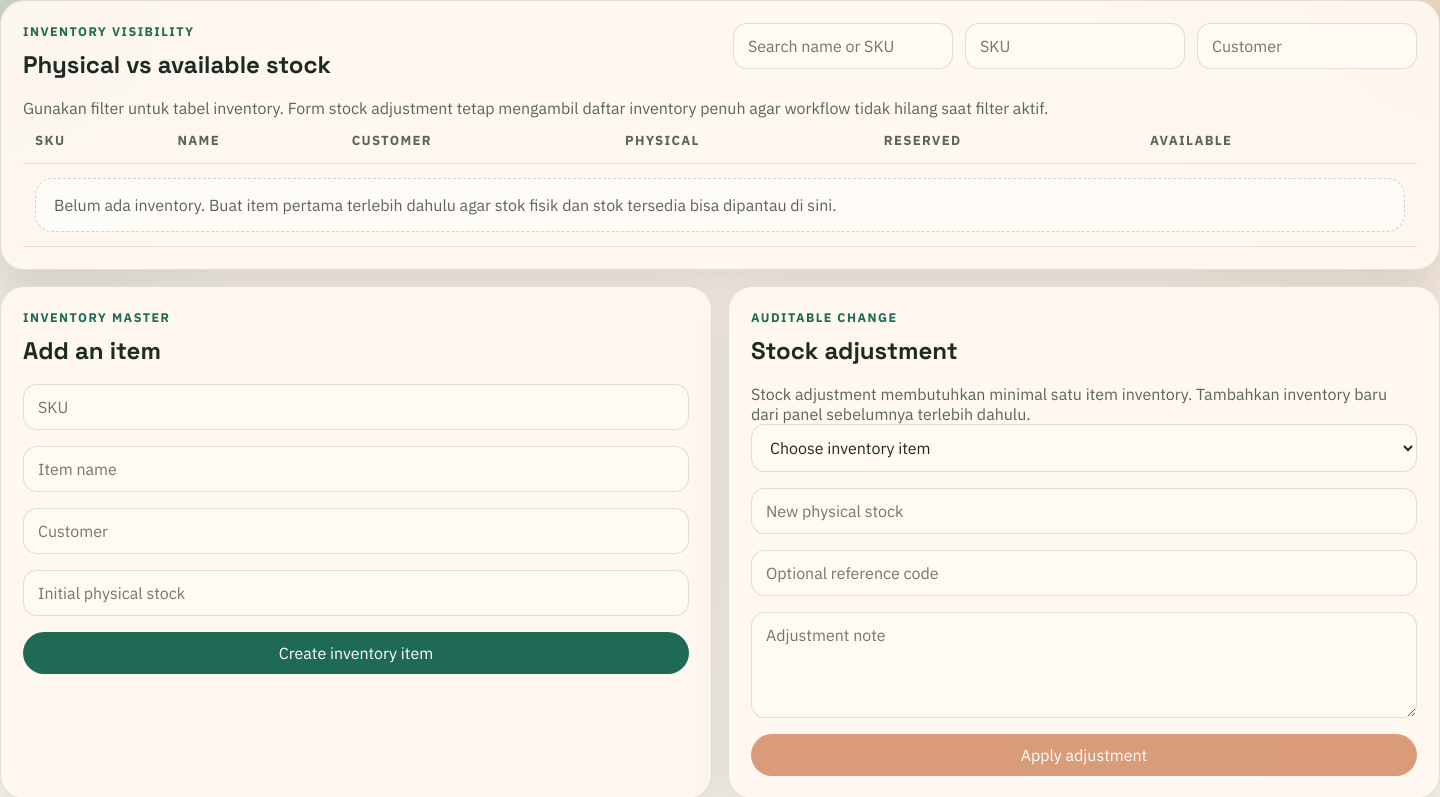
Scenario: InventoryPage › submits create inventory without reading reset from a null event target
Expected: the form "Create inventory item" is shown, [23, 384, 689, 674]
In the field with placeholder "SKU" below "Add an item": (356, 407) [23, 384, 689, 430], type "SKU-001"
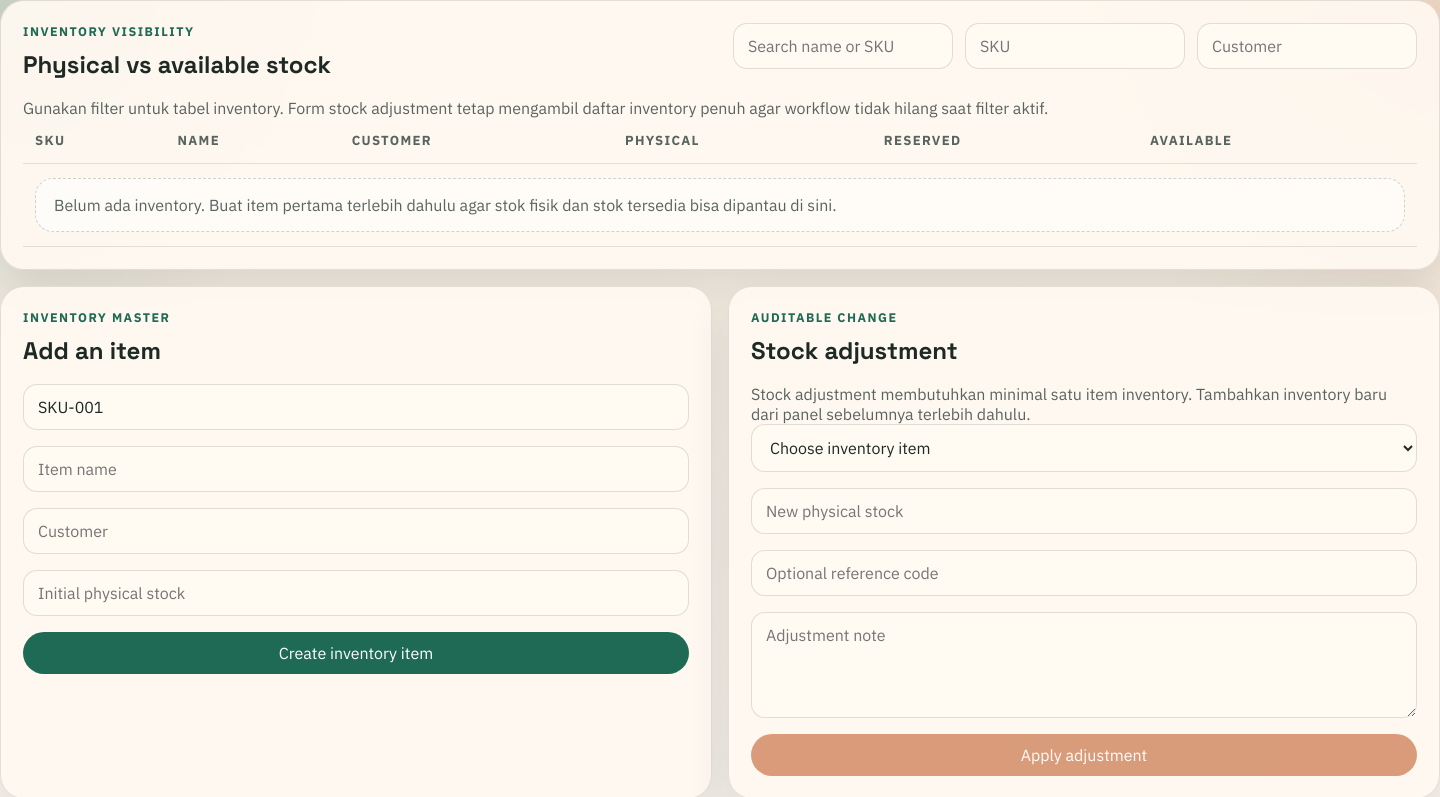
In the field with placeholder "Item name": (356, 469) [23, 446, 689, 492], type "Widget A"
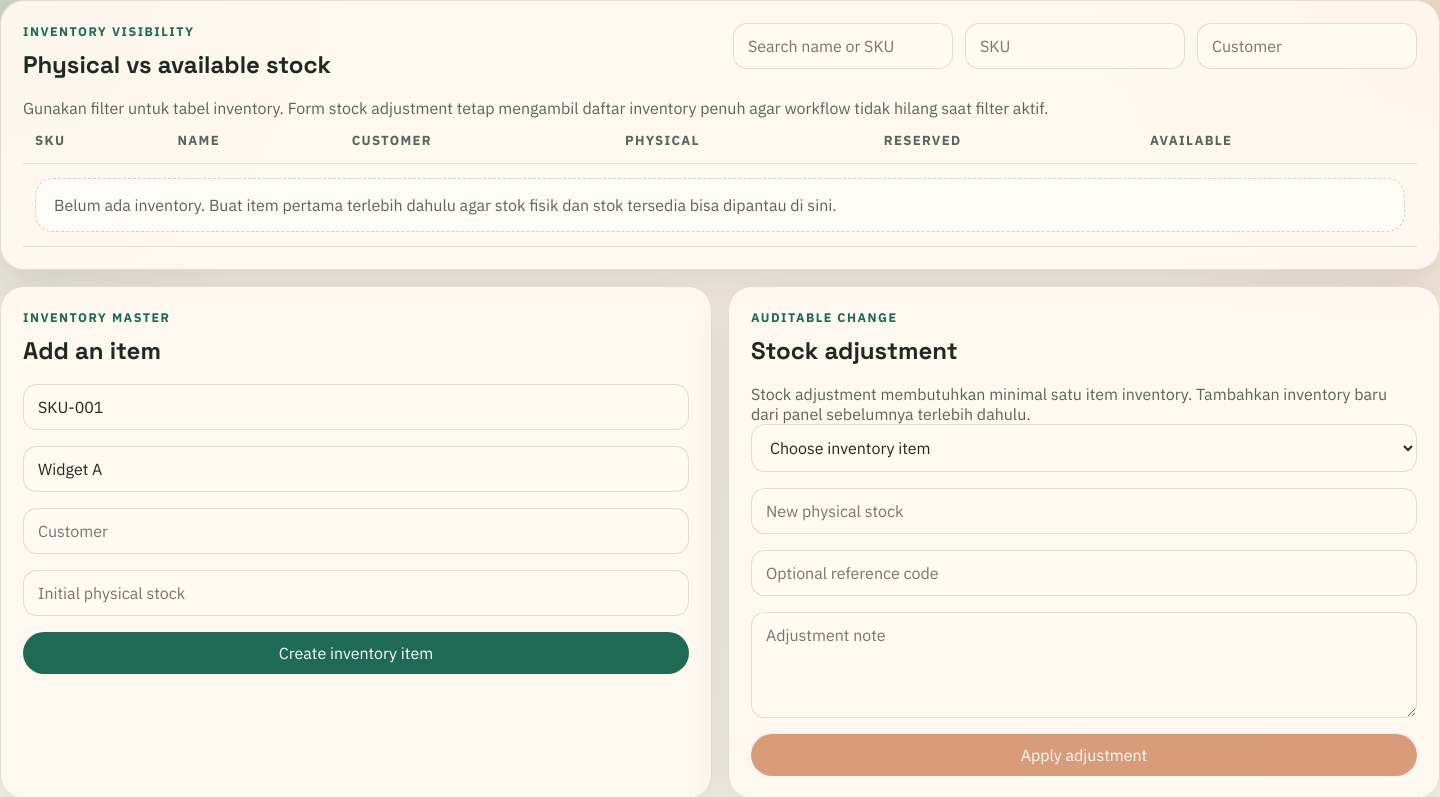
In the field with placeholder "Customer" below "Add an item": (356, 531) [23, 508, 689, 554], type "Acme Corp"
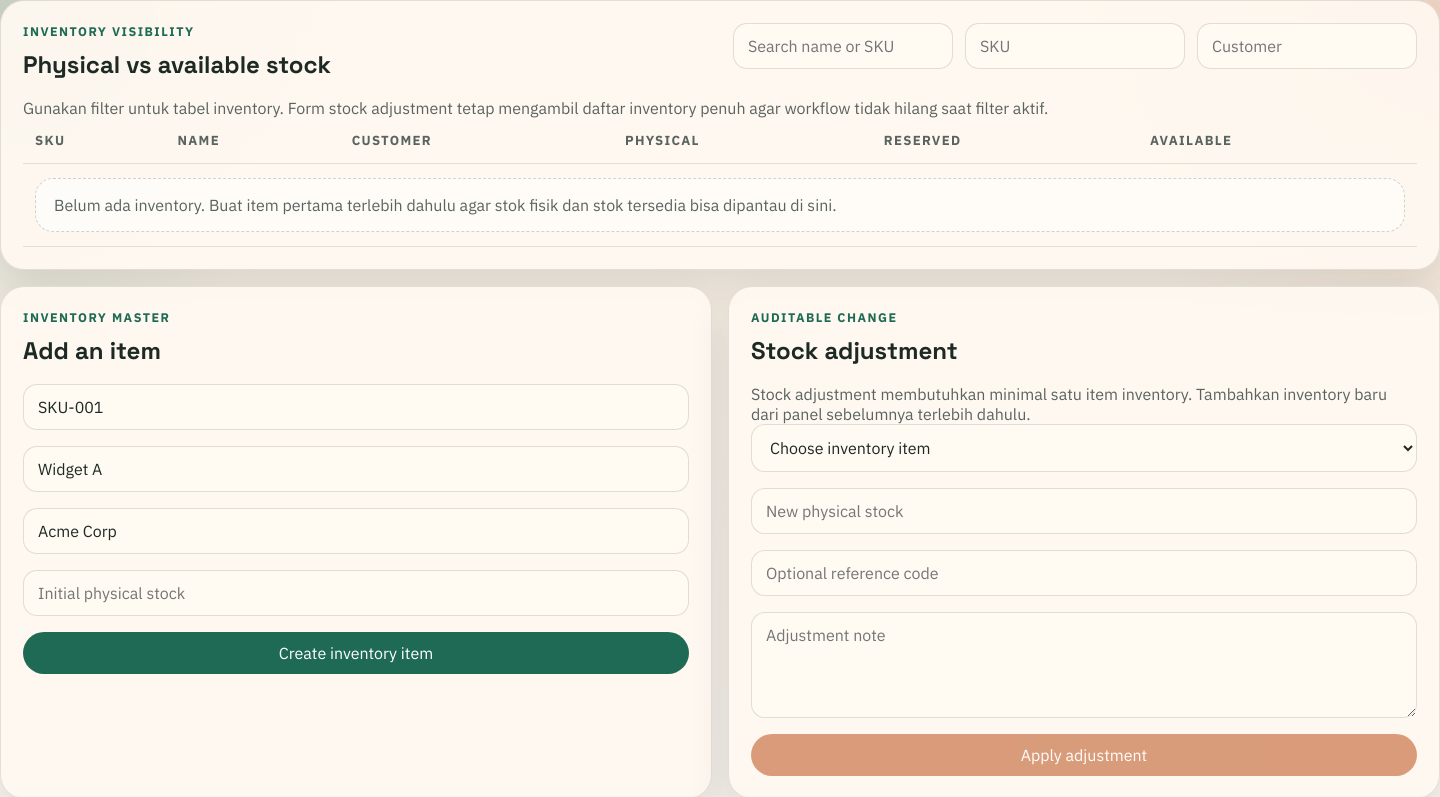
In the number field with placeholder "Initial physical stock": (356, 593) [23, 570, 689, 616], type "100"
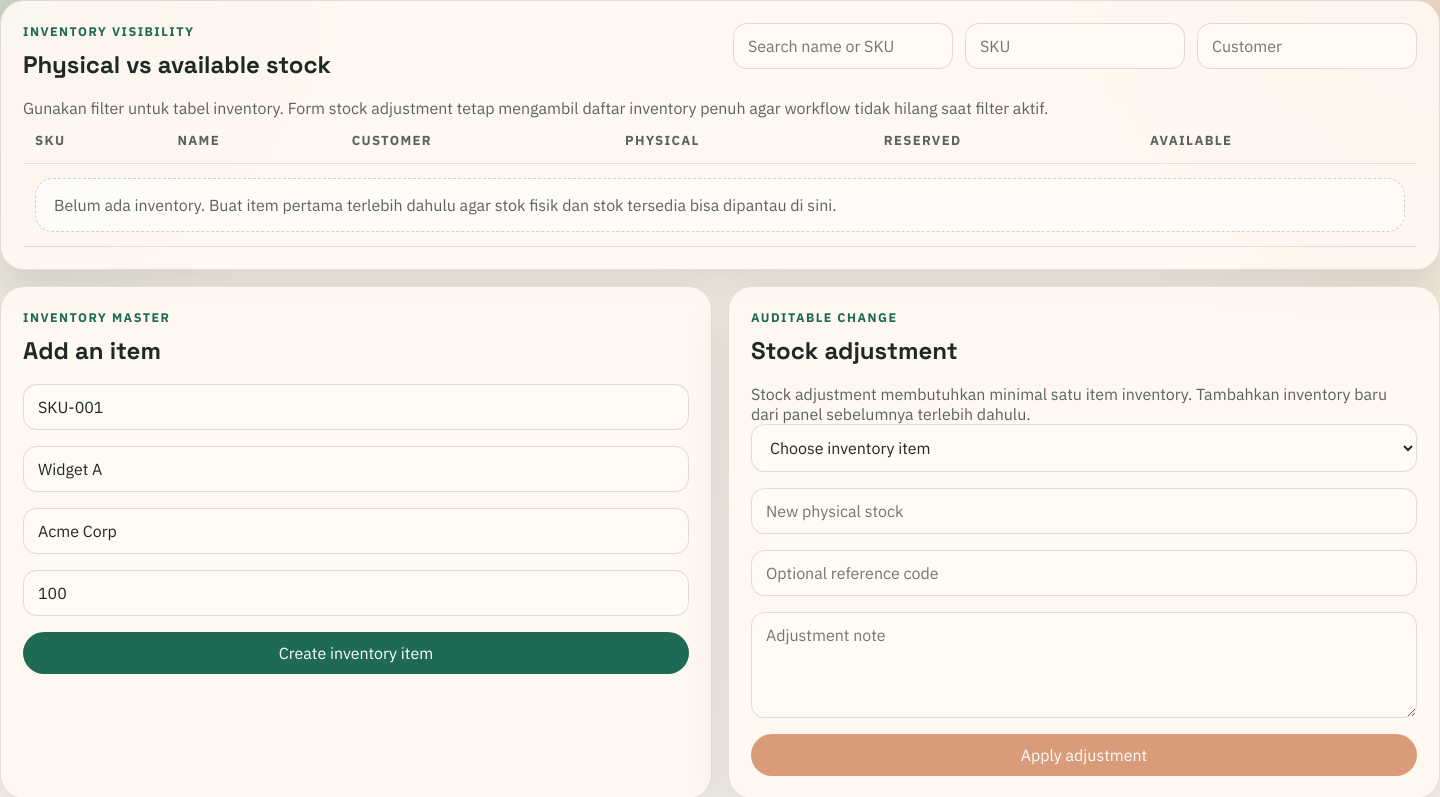
Click the button "Create inventory item": (356, 653) [23, 632, 689, 674]
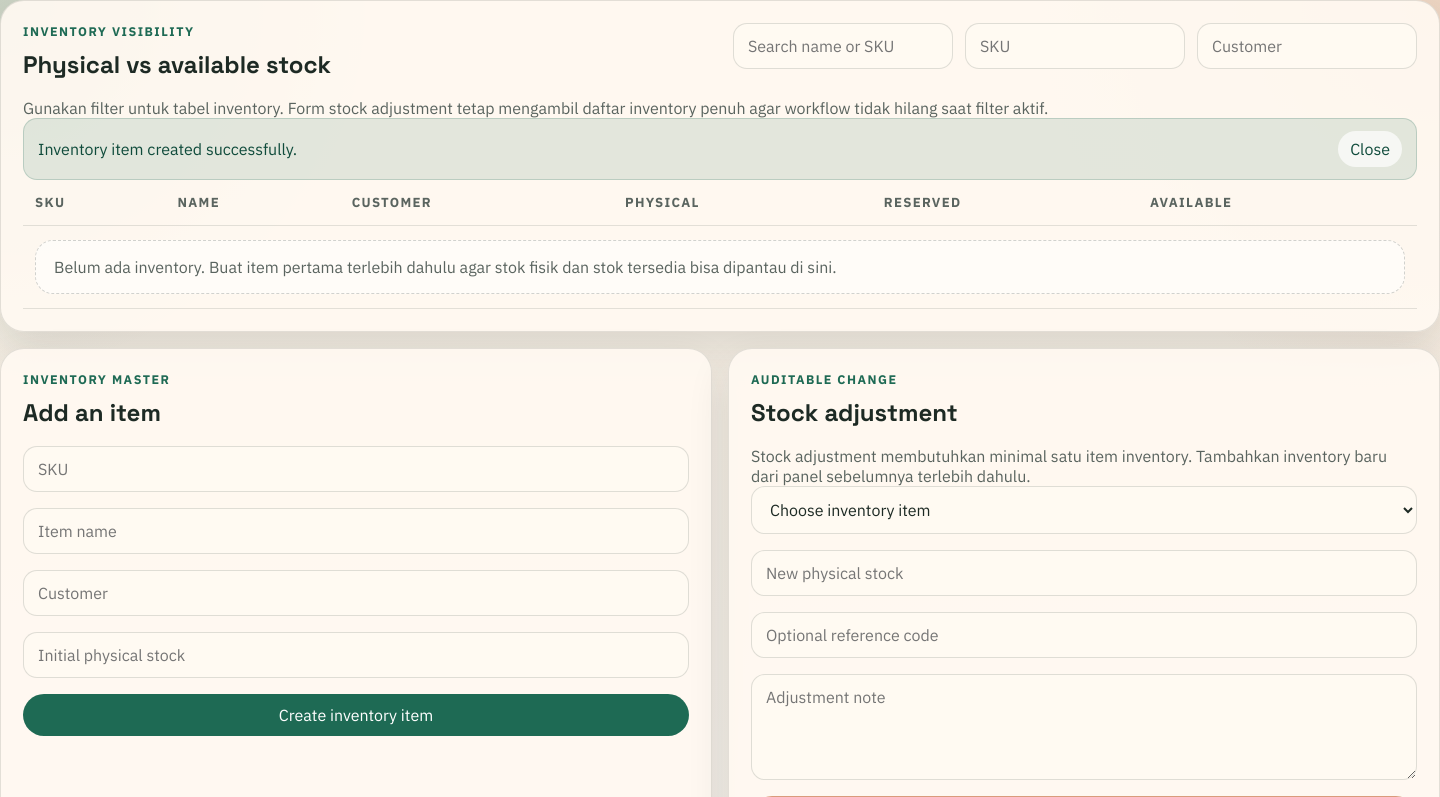
Expected: the text "Inventory item created successfully." is shown, [38, 139, 297, 159]
